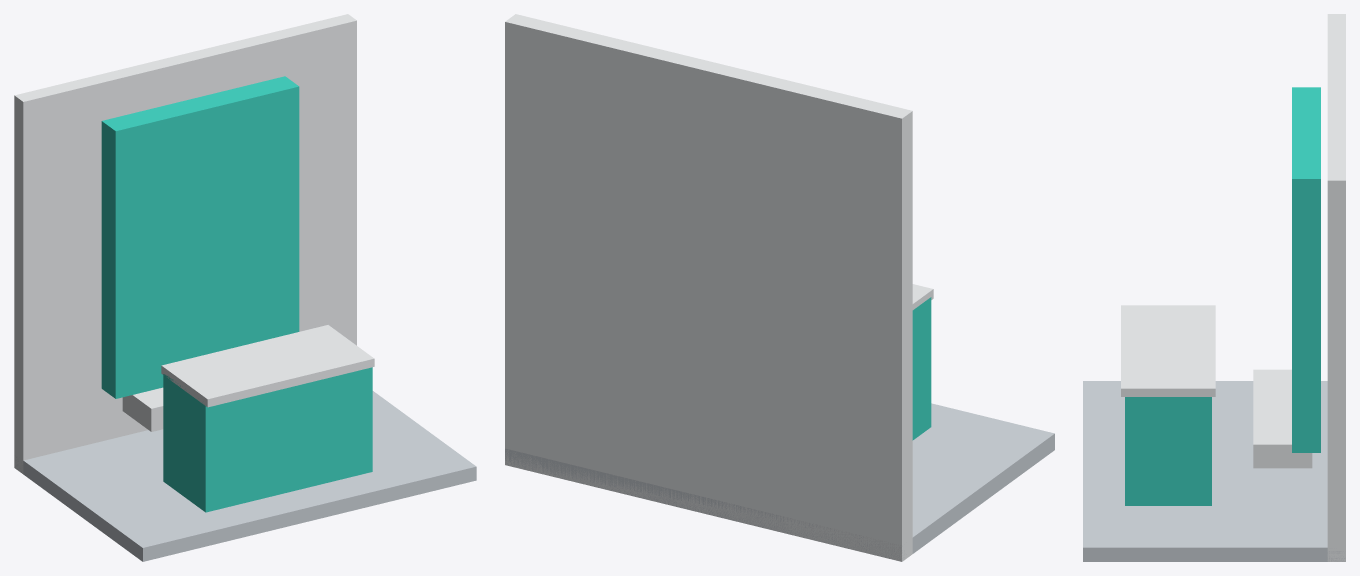
3 views of the same model, side by side, from view 1: azimuth 30°, elevation 25°; view 2: azimuth 150°, elevation 25°; view 3: azimuth 270°, elevation 25° (orthographic). The views are drawn at different scales.
Visible parts, largest first — view 1: Exhibition Booth Concept; view 2: Exhibition Booth Concept; view 3: Exhibition Booth Concept.
Boxes of the visible parts, x1,y1,x2,y2 form: Exhibition Booth Concept: (14,14,476,561); Exhibition Booth Concept: (505,14,1054,561); Exhibition Booth Concept: (1083,14,1345,561).
Size of the model in its own units: 3 by 3.2 by 2.
